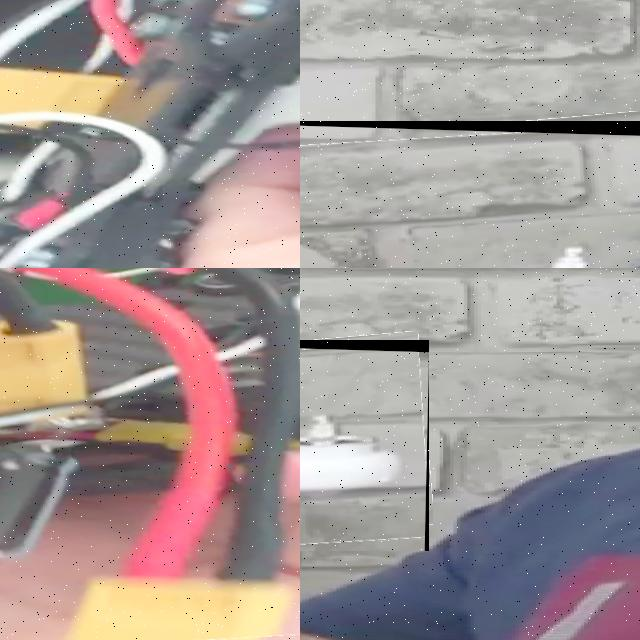drone: (0, 268, 300, 640), (0, 0, 300, 268), (300, 121, 640, 268), (300, 340, 429, 551)
